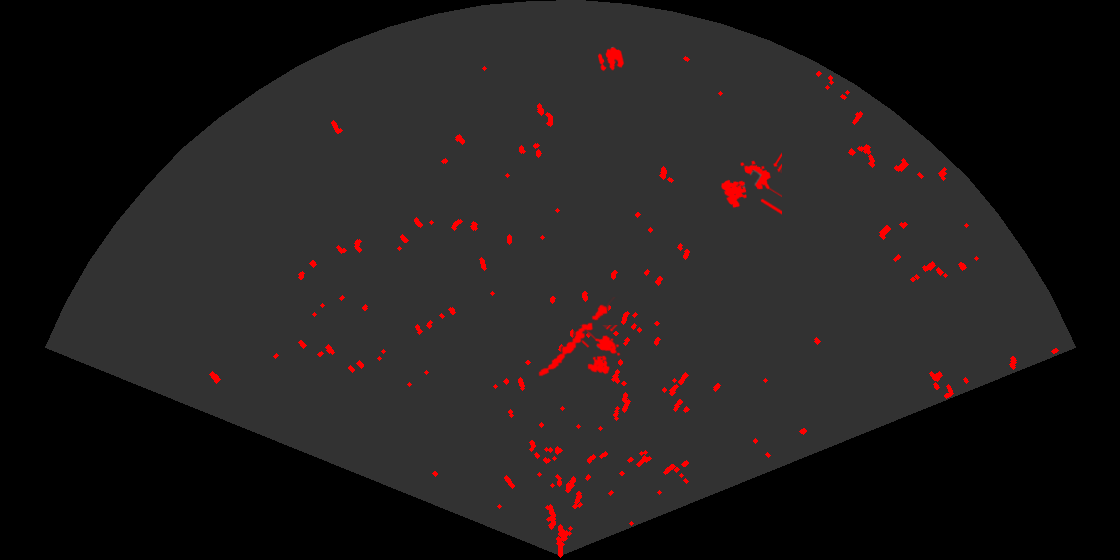ball: (596, 45, 626, 73)
cage: (719, 151, 782, 216), (573, 325, 622, 376)
chain: (537, 297, 617, 378)
